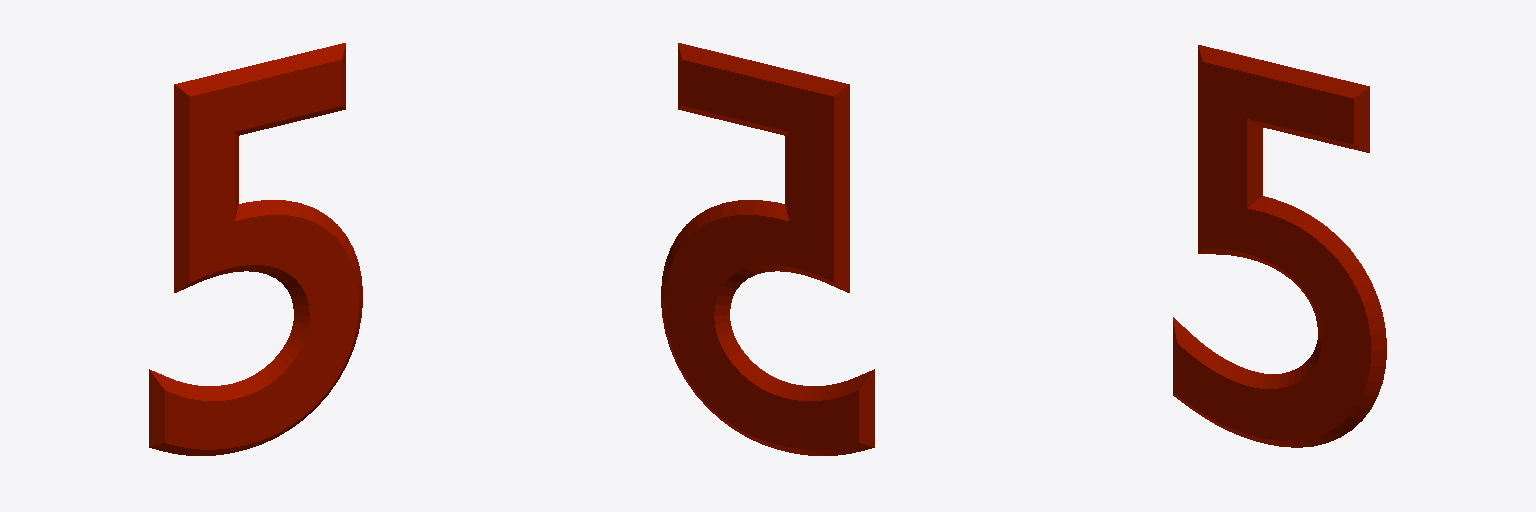
File: five.obj
The picture shows the model from 3 angles: view 1: azimuth 30°, elevation 25°; view 2: azimuth 150°, elevation 25°; view 3: azimuth 330°, elevation 25°; orthographic projection.
Visible parts, largest first — view 1: Text.005; view 2: Text.005; view 3: Text.005.
Part boxes in pixels (left/top/right/bottom): Text.005: left=149, top=43, right=362, bottom=455; Text.005: left=661, top=43, right=874, bottom=455; Text.005: left=1173, top=45, right=1386, bottom=447.
Bounding box in the file's own units: 0.0428 × 0.0731 × 0.004.